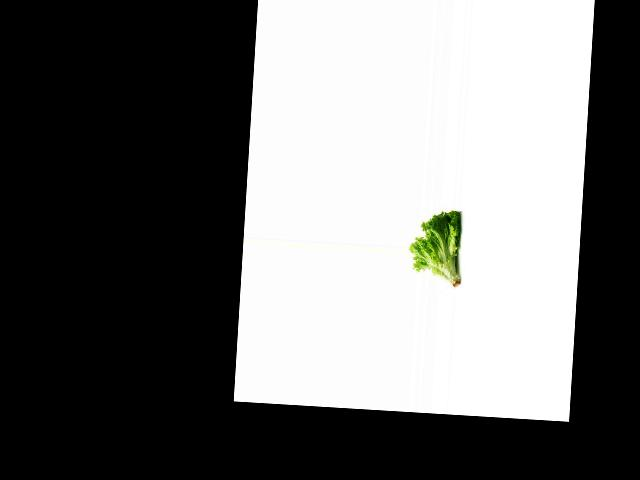lettuce: (406, 208, 466, 289)
